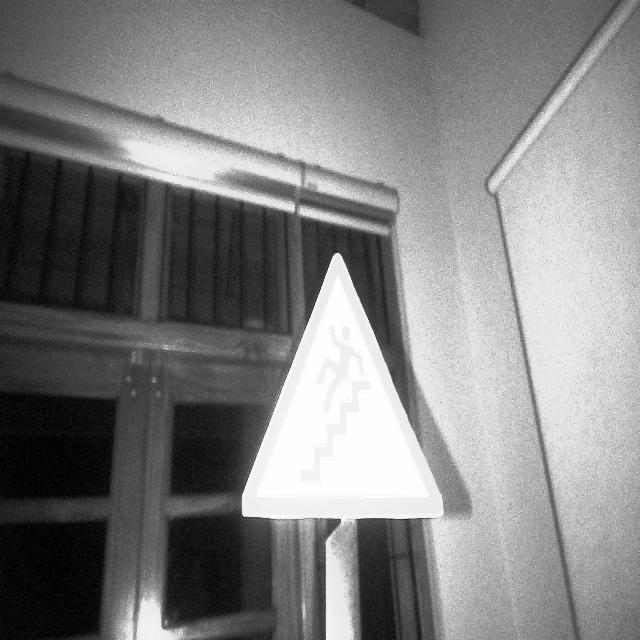Sign: (238, 250, 445, 522)
